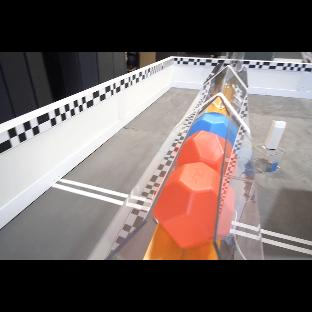Autolimit: (52, 183, 150, 211), (230, 221, 312, 246), (59, 179, 129, 199), (262, 238, 312, 255)
Goal: (88, 60, 263, 260)
blueingoal: (188, 112, 229, 139), (228, 121, 238, 146)
redingoal: (153, 130, 237, 249)
